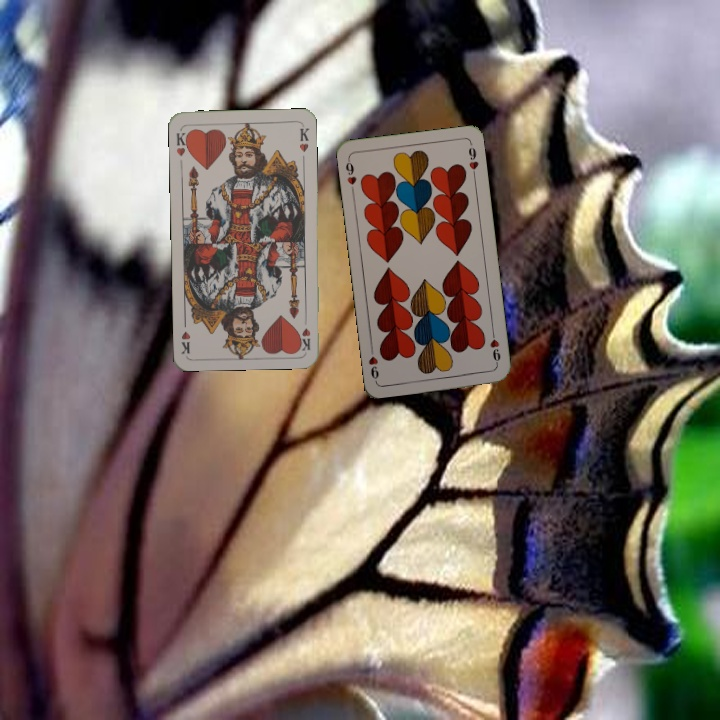H9: (341, 155, 359, 195), (486, 327, 503, 368)
HK: (172, 126, 192, 159), (297, 312, 313, 352)
